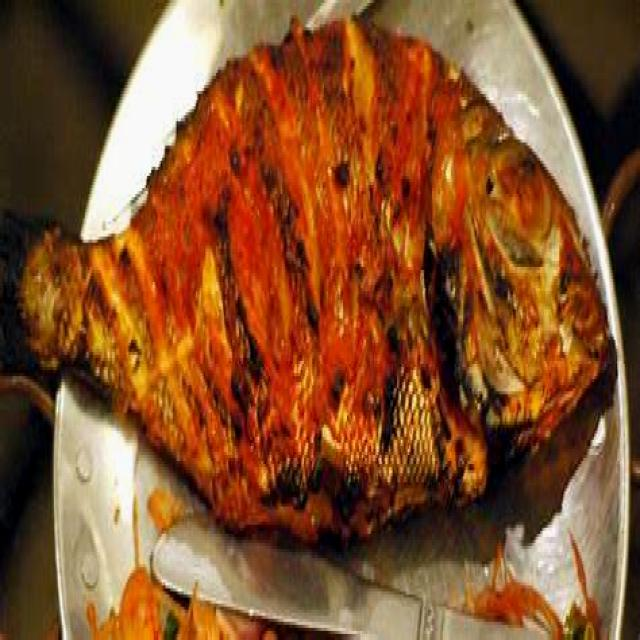ikan bakar: (20, 21, 622, 552)
